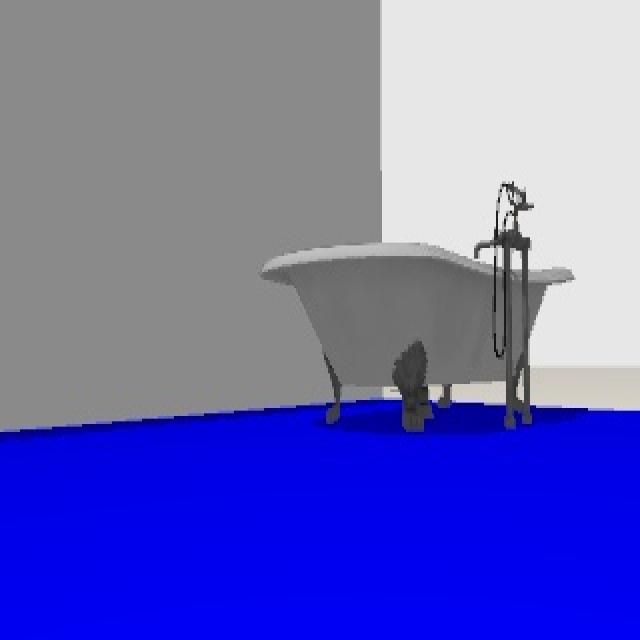bathtub: (259, 174, 576, 432)
